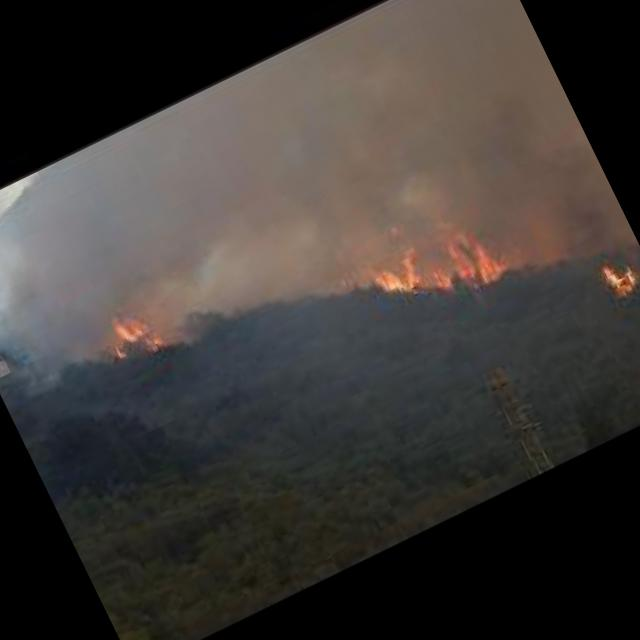fire: (319, 185, 510, 348), (89, 298, 172, 380), (594, 255, 639, 298)
